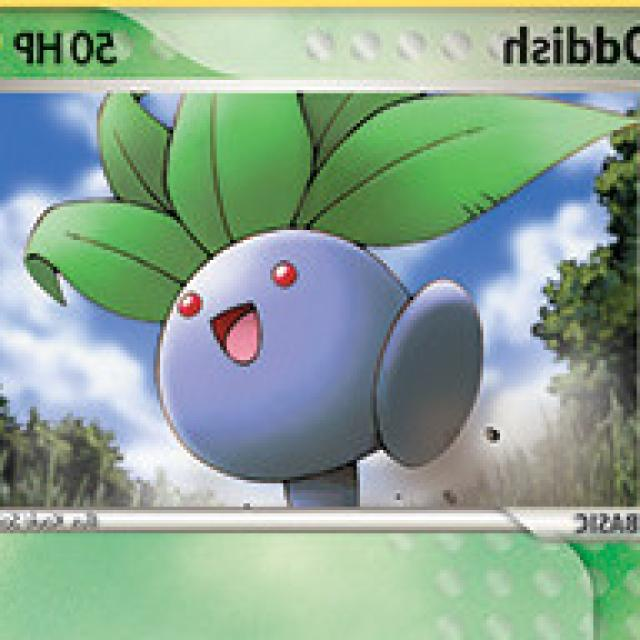Oddish: (106, 78, 495, 510)
